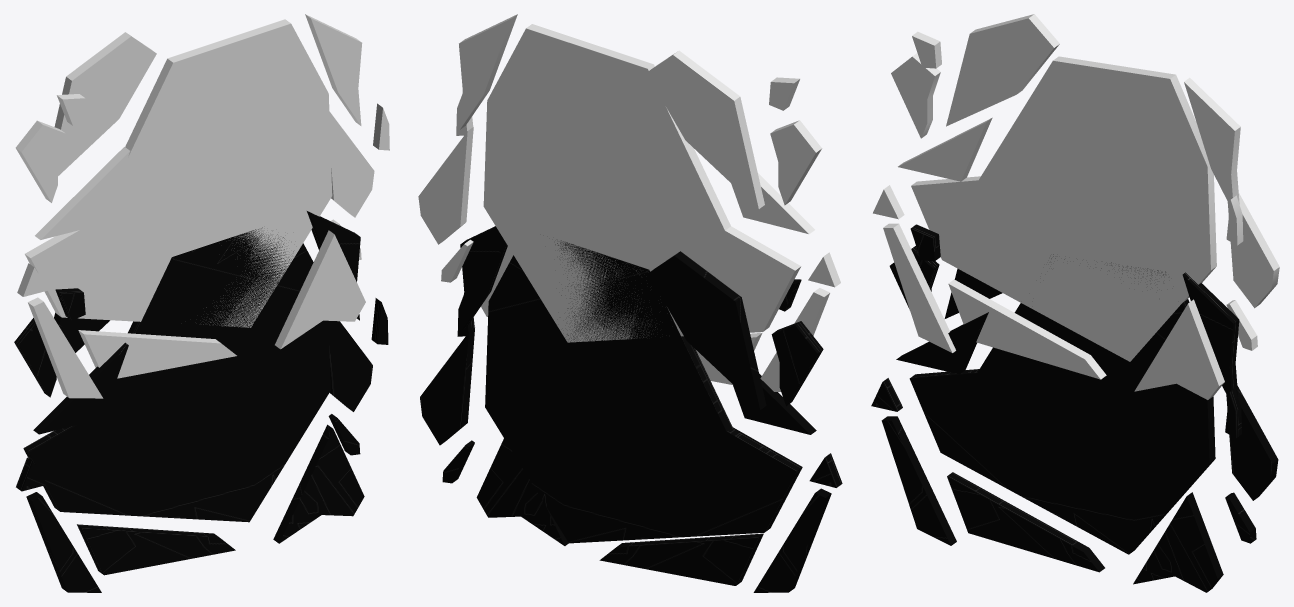
File: M_MemoryShard_test_3.fbx
The picture shows the model from 3 angles, left to right: view 1: azimuth 30°, elevation 25°; view 2: azimuth 150°, elevation 25°; view 3: azimuth 330°, elevation 25°; orthographic projection. The views are drawn at different scales.
Parts seen in each view (by area): view 1: polySurface29, polySurface16, polySurface26, polySurface21, polySurface22, polySurface15, polySurface17, polySurface19, polySurface23, polySurface25, polySurface27, polySurface18 (+1 smaller); view 2: polySurface29, polySurface16, polySurface26, polySurface19, polySurface17, polySurface25, polySurface15, polySurface23, polySurface27, polySurface24, polySurface20; view 3: polySurface29, polySurface16, polySurface26, polySurface22, polySurface21, polySurface17, polySurface23, polySurface19, polySurface15, polySurface25, polySurface27, polySurface20 (+2 smaller).
Part boxes in pixels (bbox=[...]): polySurface29: bbox=[14, 211, 388, 592]; polySurface16: bbox=[25, 19, 332, 327]; polySurface26: bbox=[54, 32, 156, 175]; polySurface21: bbox=[275, 230, 365, 349]; polySurface22: bbox=[78, 330, 236, 378]; polySurface15: bbox=[35, 147, 130, 239]; polySurface17: bbox=[305, 14, 362, 125]; polySurface19: bbox=[329, 111, 374, 217]; polySurface23: bbox=[28, 297, 103, 398]; polySurface25: bbox=[15, 120, 65, 202]; polySurface27: bbox=[56, 94, 86, 125]; polySurface18: bbox=[373, 103, 389, 150]; polySurface29: bbox=[420, 226, 842, 592]; polySurface16: bbox=[483, 24, 801, 342]; polySurface26: bbox=[646, 50, 764, 208]; polySurface19: bbox=[418, 127, 473, 244]; polySurface17: bbox=[459, 14, 517, 129]; polySurface25: bbox=[770, 120, 821, 205]; polySurface15: bbox=[731, 173, 814, 234]; polySurface23: bbox=[760, 288, 829, 391]; polySurface27: bbox=[769, 77, 799, 110]; polySurface24: bbox=[808, 252, 840, 287]; polySurface20: bbox=[441, 239, 473, 282]; polySurface29: bbox=[871, 224, 1278, 592]; polySurface16: bbox=[911, 56, 1216, 361]; polySurface26: bbox=[946, 14, 1059, 126]; polySurface22: bbox=[948, 279, 1106, 379]; polySurface21: bbox=[1134, 299, 1224, 399]; polySurface17: bbox=[1184, 77, 1240, 205]; polySurface23: bbox=[883, 223, 955, 352]; polySurface19: bbox=[1227, 193, 1279, 308]; polySurface15: bbox=[898, 117, 992, 181]; polySurface25: bbox=[891, 53, 940, 138]; polySurface27: bbox=[912, 31, 941, 68]; polySurface20: bbox=[1226, 300, 1257, 350].
Bounding box in the file's own units: 8.19 × 10.86 × 1.2.
Materials: 2 (1 with a texture image).
